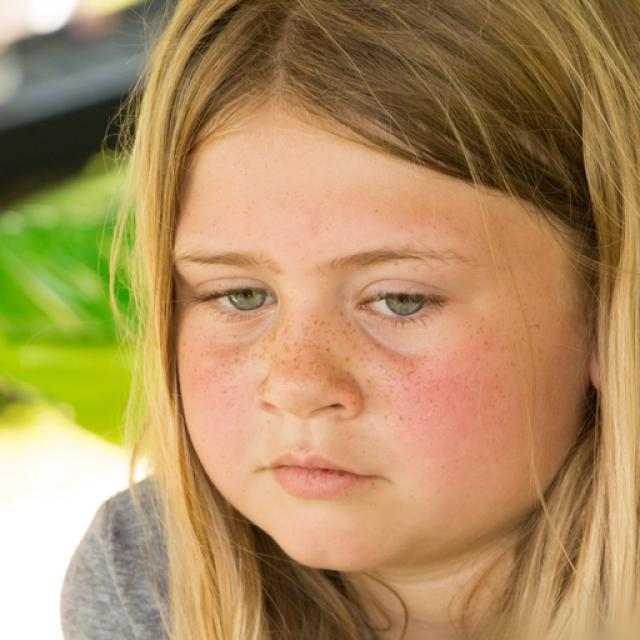sad: (172, 115, 590, 576)
